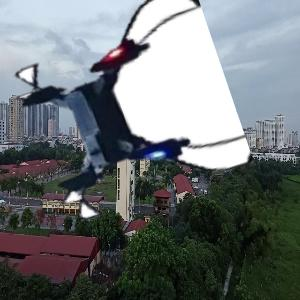drone: (21, 7, 232, 218)
